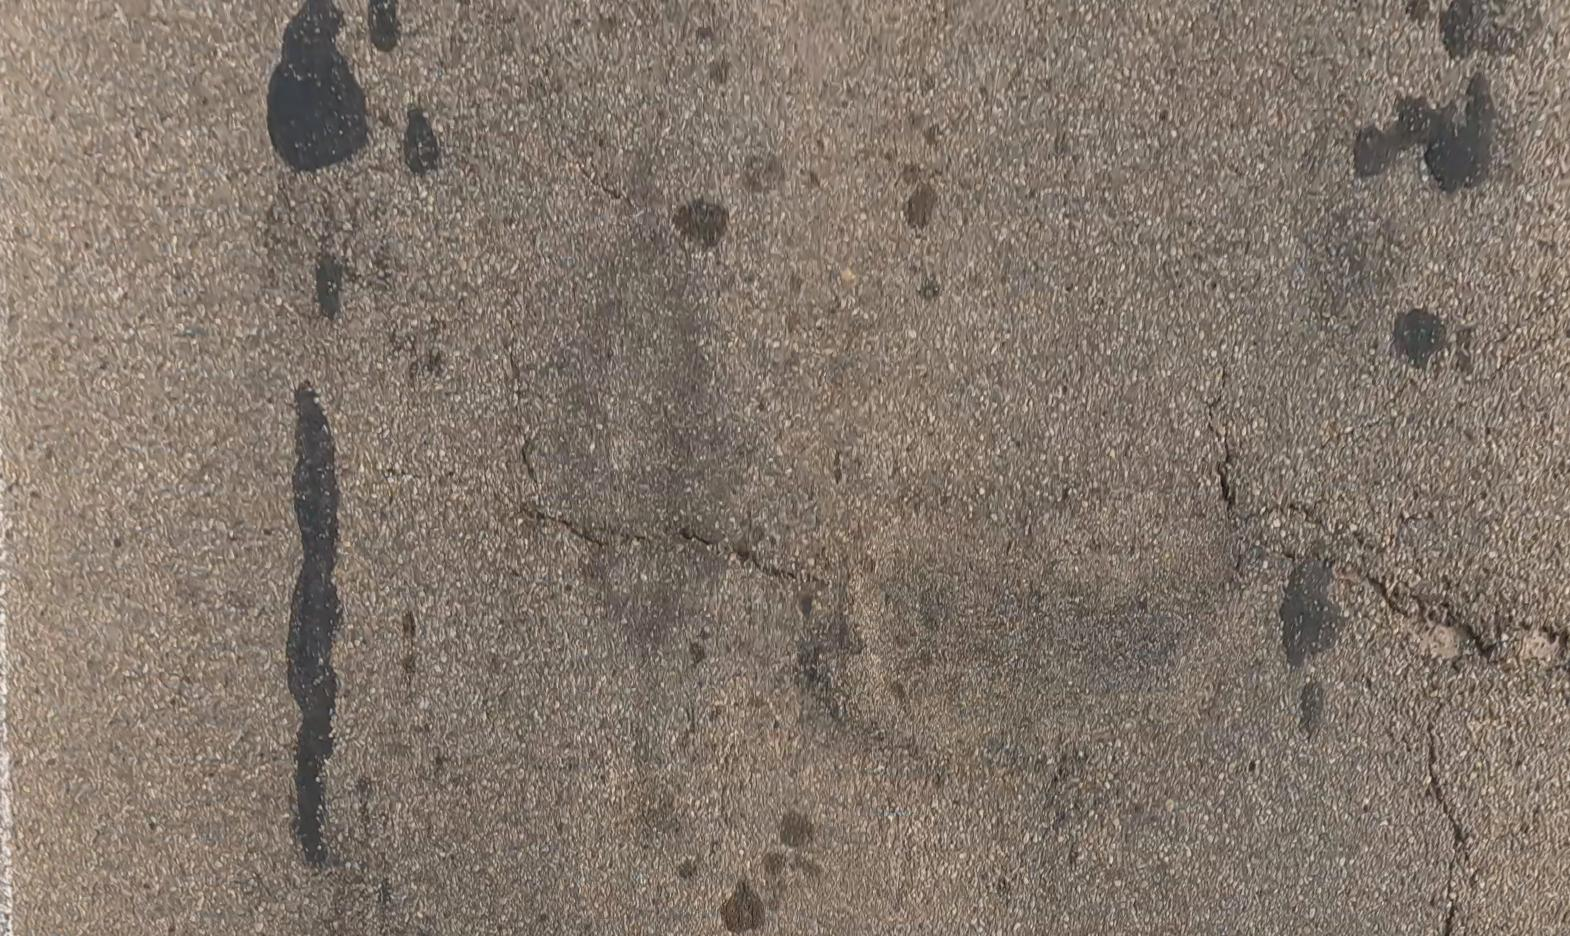pothole: (1405, 611, 1473, 663), (1502, 625, 1564, 673)
pothole_patch_good: (845, 493, 1250, 731), (285, 382, 338, 865), (1356, 72, 1499, 192), (266, 0, 367, 168), (1283, 560, 1346, 667), (1442, 0, 1545, 56), (1395, 308, 1449, 365), (673, 198, 727, 247), (403, 104, 439, 173), (314, 251, 343, 318), (368, 0, 399, 49), (1410, 0, 1432, 20)
